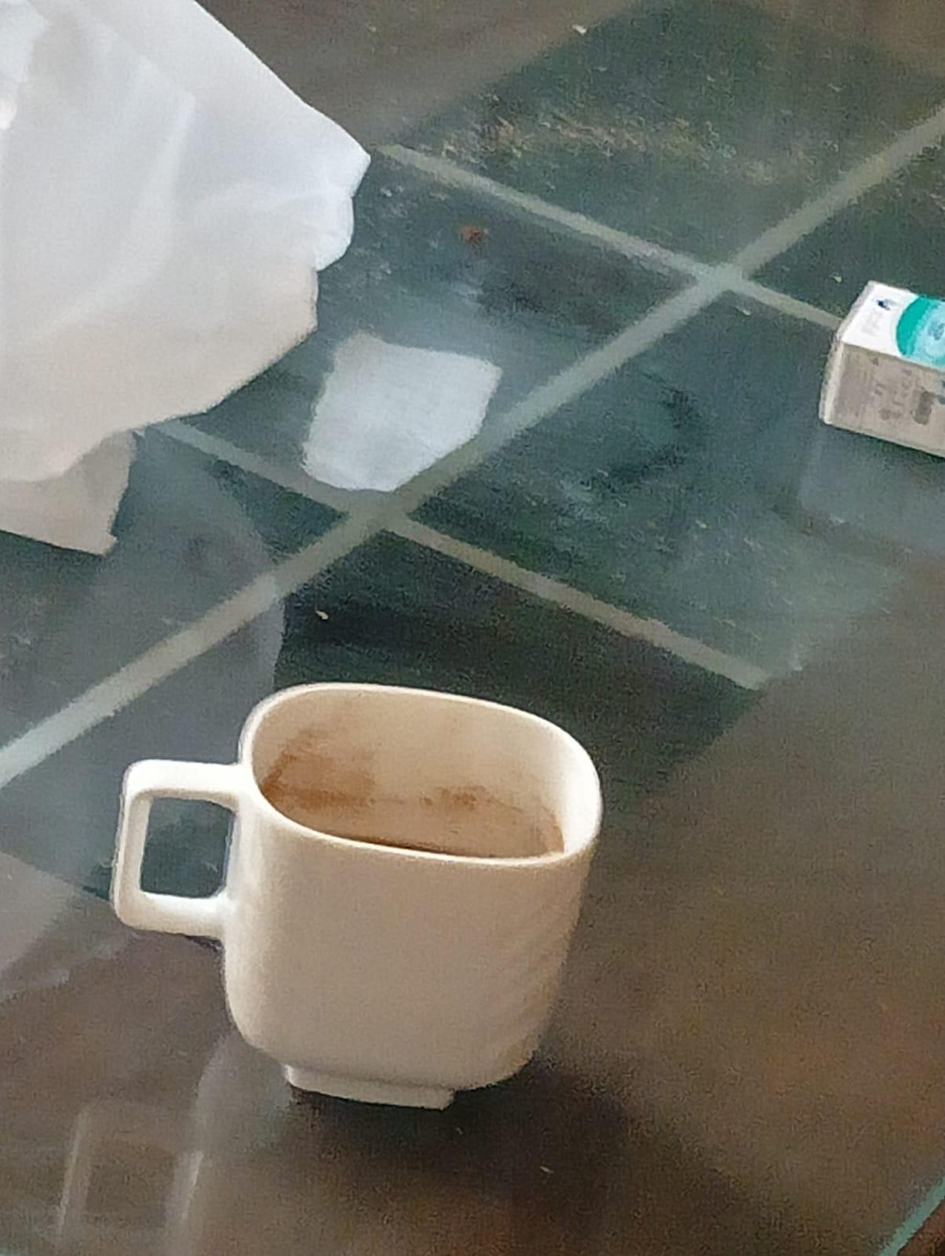cup: (113, 684, 600, 1107)
